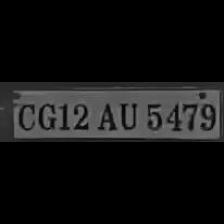1: (55, 99, 70, 130)
2: (68, 100, 90, 132)
4: (164, 100, 182, 132)
5: (142, 100, 162, 132)
7: (180, 99, 196, 130)
9: (198, 100, 216, 132)
A: (92, 100, 116, 132)
C: (14, 100, 34, 132)
G: (36, 101, 58, 131)
U: (117, 99, 139, 131)
